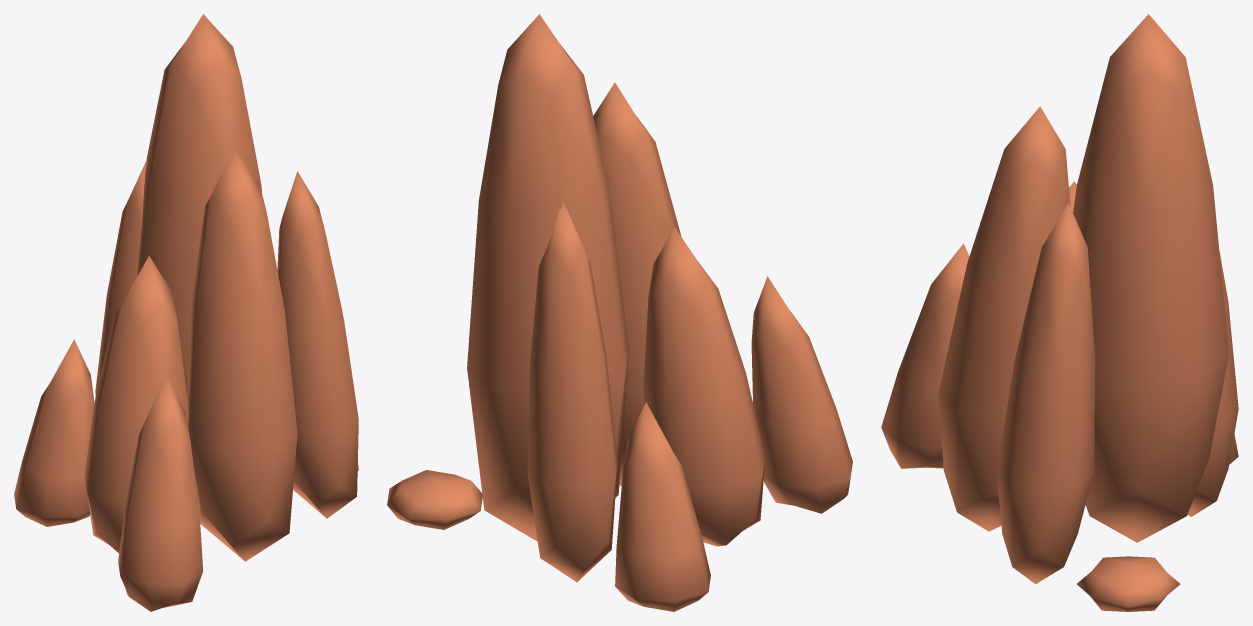
The model's file is rock04.glb.
The picture shows the model from 3 angles, left to right: view 1: azimuth 30°, elevation 25°; view 2: azimuth 150°, elevation 25°; view 3: azimuth 270°, elevation 25°; orthographic projection. The views are drawn at different scales.
Visible parts, largest first — view 1: rock_04; view 2: rock_04; view 3: rock_04.
Part boxes in pixels (x1,y1,x2,y2): rock_04: (14, 14, 358, 611); rock_04: (387, 14, 852, 611); rock_04: (881, 14, 1238, 611).
Bounding box in the file's own units: 2.81 × 4.02 × 2.44.
1 material, 1 textured.
